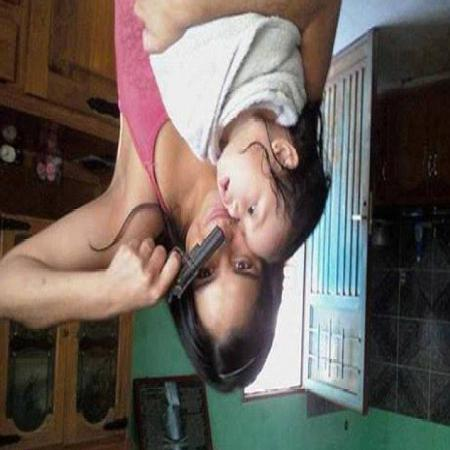Pistol: (135, 211, 230, 306)
